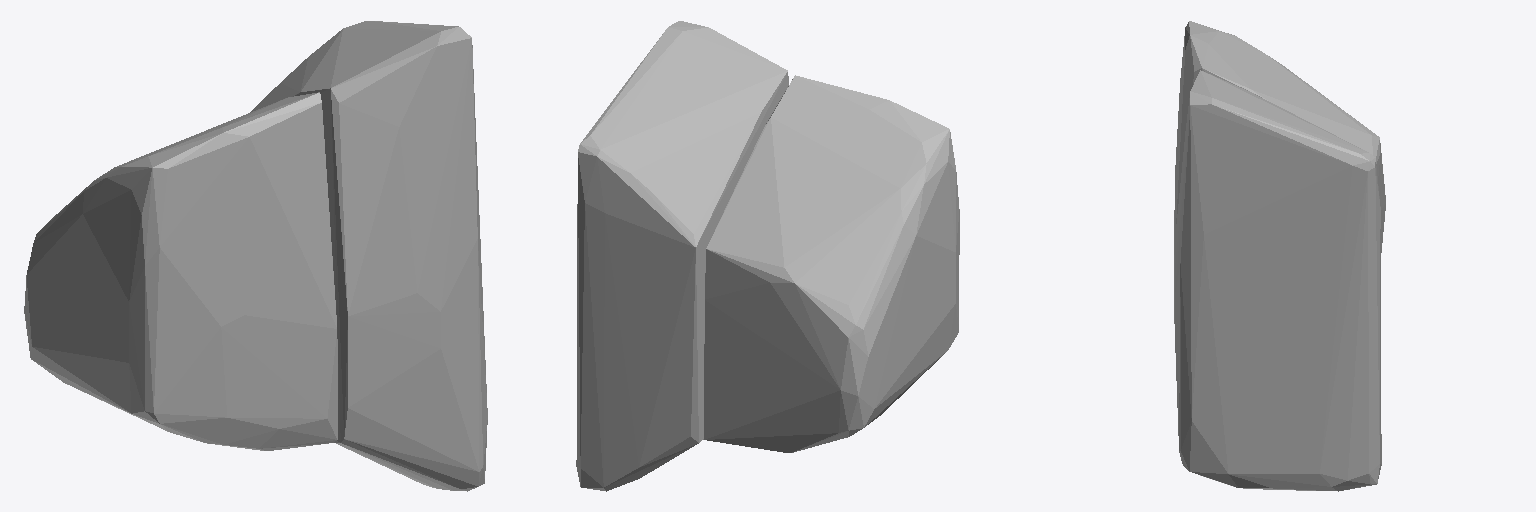
robot.urdf — root:
<robot name="root">
  <link name="link_rock20_convex_piece_0">
    <inertial>
      <origin rpy="0 0 0" xyz="0 0 0"/>
      <mass value="2.40E+05"/>
      <inertia ixx="9.32E+08" ixy="2.54E+09" ixz="-2.34E+09" iyy="-3.04E+09" iyz="-3.86E+08" izz="-3.72E+09"/>
    </inertial>
    <visual>
      <origin rpy="0 0 0" xyz="0 0 0"/>
      <geometry>
        <mesh filename="rock20_convex_piece_0.obj" scale="1.0000E+00 1.0000E+00 1.0000E+00"/>
      </geometry>
      <material name="">
        <color rgba="7.50E-01 7.50E-01 7.50E-01 1"/>
      </material>
    </visual>
    <collision>
      <origin rpy="0 0 0" xyz="0 0 0"/>
      <geometry>
        <mesh filename="rock20_convex_piece_0.obj" scale="1.0000E+00 1.0000E+00 1.0000E+00"/>
      </geometry>
    </collision>
  </link>
  <link name="link_rock20_convex_piece_1">
    <inertial>
      <origin rpy="0 0 0" xyz="0 0 0"/>
      <mass value="2.71E+05"/>
      <inertia ixx="-5.71E+08" ixy="-2.67E+09" ixz="2.54E+09" iyy="4.29E+09" iyz="4.47E+08" izz="4.46E+09"/>
    </inertial>
    <visual>
      <origin rpy="0 0 0" xyz="0 0 0"/>
      <geometry>
        <mesh filename="rock20_convex_piece_1.obj" scale="1.0000E+00 1.0000E+00 1.0000E+00"/>
      </geometry>
      <material name="">
        <color rgba="7.50E-01 7.50E-01 7.50E-01 1"/>
      </material>
    </visual>
    <collision>
      <origin rpy="0 0 0" xyz="0 0 0"/>
      <geometry>
        <mesh filename="rock20_convex_piece_1.obj" scale="1.0000E+00 1.0000E+00 1.0000E+00"/>
      </geometry>
    </collision>
  </link>
  <joint name="link_rock20_convex_piece_1_joint" type="fixed">
    <origin rpy="0 0 0" xyz="0 0 0"/>
    <parent link="link_rock20_convex_piece_0"/>
    <child link="link_rock20_convex_piece_1"/>
  </joint>
</robot>

--- Facts derived from the render (not from the file) ---
The picture shows the robot from 3 angles, left to right: view 1: azimuth 30°, elevation 25°; view 2: azimuth 150°, elevation 25°; view 3: azimuth 270°, elevation 25°; orthographic projection.
Model root with 2 links and 1 joints (1 fixed), rooted at link_rock20_convex_piece_0, posed every joint at zero.
Links seen in each view (by area): view 1: link_rock20_convex_piece_0, link_rock20_convex_piece_1; view 2: link_rock20_convex_piece_0, link_rock20_convex_piece_1; view 3: link_rock20_convex_piece_1, link_rock20_convex_piece_0.
Boxes of the visible links, left/top/right/bottom form: link_rock20_convex_piece_0: left=24, top=92, right=337, bottom=450; link_rock20_convex_piece_1: left=250, top=21, right=487, bottom=491; link_rock20_convex_piece_0: left=704, top=75, right=959, bottom=452; link_rock20_convex_piece_1: left=576, top=21, right=788, bottom=491; link_rock20_convex_piece_1: left=1174, top=70, right=1381, bottom=491; link_rock20_convex_piece_0: left=1174, top=21, right=1385, bottom=254.
Size in the robot's own frame: 104 by 66.35 by 133 metres.
2 mesh visuals loaded from 2 distinct referenced files (2 OBJ).